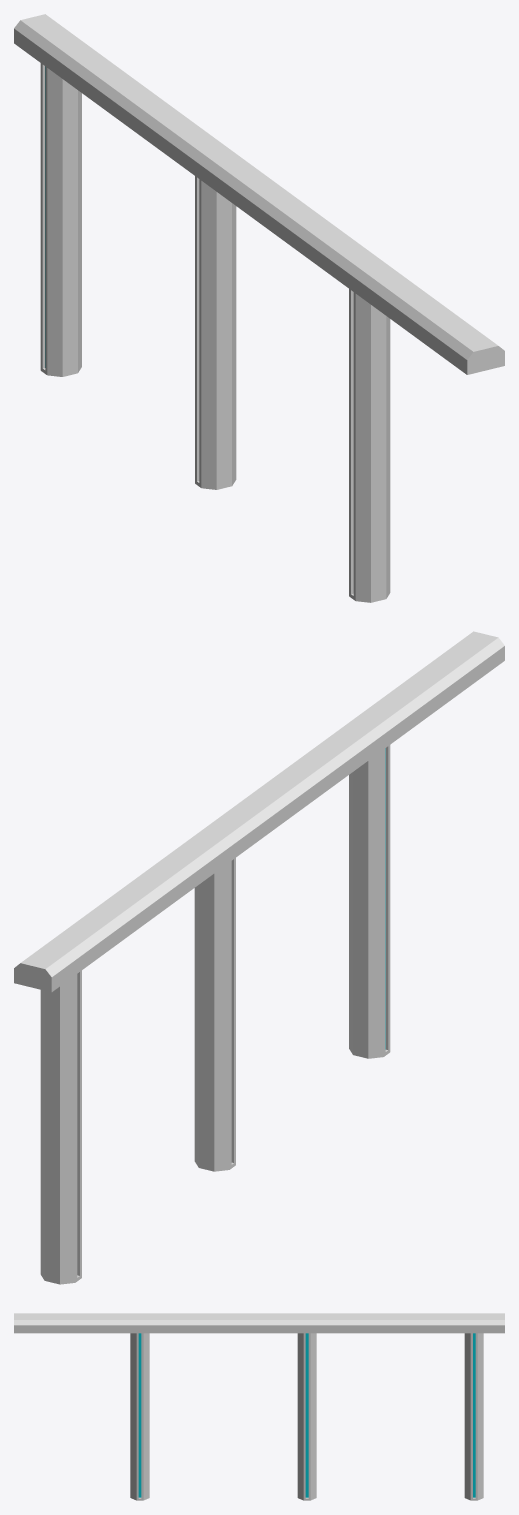
The model's file is fence.fbx.
The picture shows the model from 3 angles, top to bottom: view 1: azimuth 30°, elevation 25°; view 2: azimuth 150°, elevation 25°; view 3: azimuth 270°, elevation 25°; orthographic projection. The views are drawn at different scales.
Parts seen in each view (by area): view 1: Cube.003, Cube.002, Cube, Cube.001; view 2: Cube.003, Cube.002, Cube, Cube.001; view 3: Cube.003, Cube, Cube.001, Cube.002.
Boxes of the visible parts, x1,y1,x2,y2 form: Cube.003: (14,14,504,374); Cube.002: (40,63,81,376); Cube: (349,289,390,602); Cube.001: (195,176,236,489); Cube.003: (14,631,504,992); Cube.002: (40,970,81,1284); Cube: (349,745,390,1058); Cube.001: (194,858,235,1171); Cube.003: (14,1313,504,1333); Cube: (130,1333,149,1500); Cube.001: (297,1333,316,1500); Cube.002: (464,1333,483,1500).
Size of the model in its own units: 14.15 by 118 by 294.
